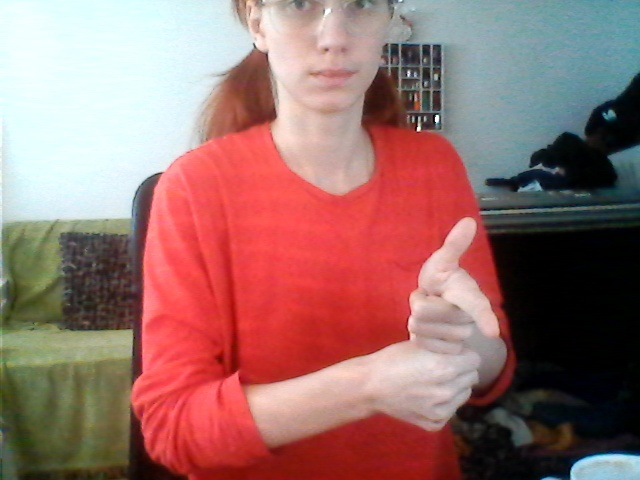kamera: (348, 209, 525, 443)
